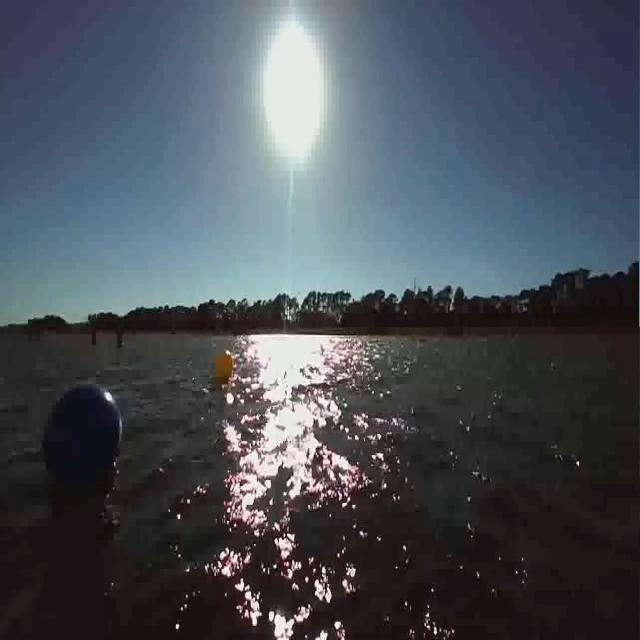blue-buoy: (36, 374, 126, 495)
yellow-buoy: (214, 349, 234, 379)
